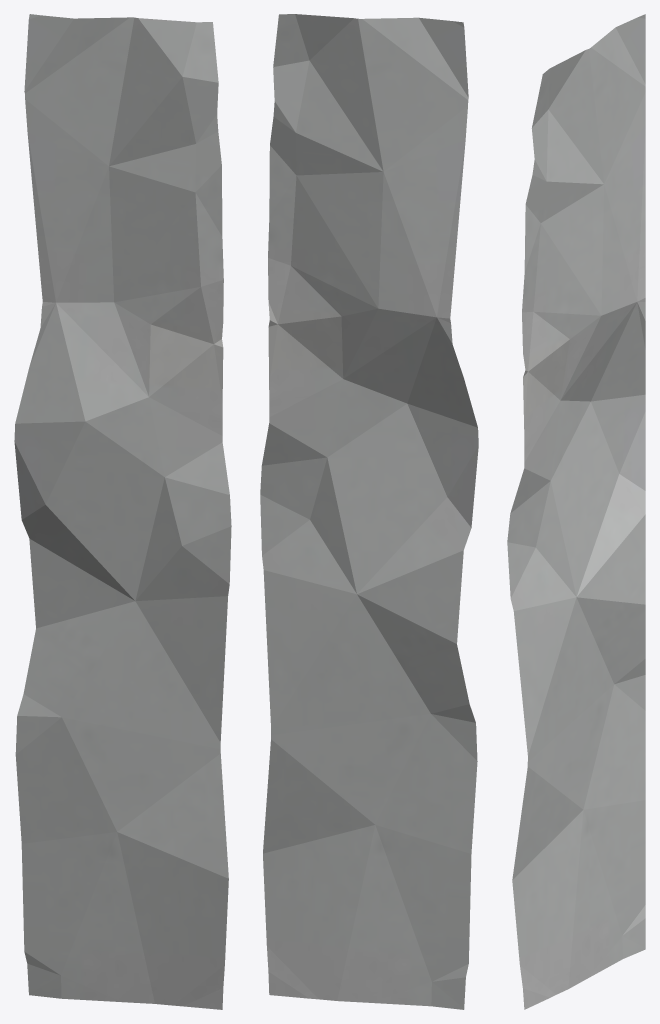
The picture shows the model from 3 angles, left to right: view 1: azimuth 30°, elevation 25°; view 2: azimuth 210°, elevation 25°; view 3: azimuth 270°, elevation 25°; orthographic projection. The views are drawn at different scales.
Size of the model in its own units: 0.1291 by 0.8373 by 0.1123.
Materials: 1 (1 with a texture image).
